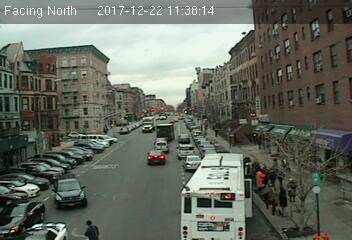bus: (179, 153, 250, 240)
car: (1, 197, 47, 238), (52, 173, 87, 207), (146, 150, 167, 167), (184, 154, 202, 171), (175, 144, 196, 158), (178, 132, 191, 144)
pedestrian: (278, 183, 288, 220)
ups: (155, 123, 175, 141)
